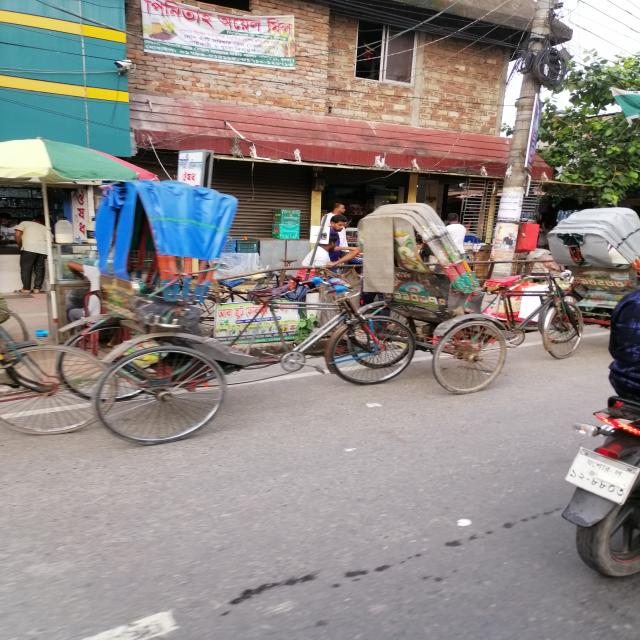Rickshaw: (98, 171, 420, 450)
